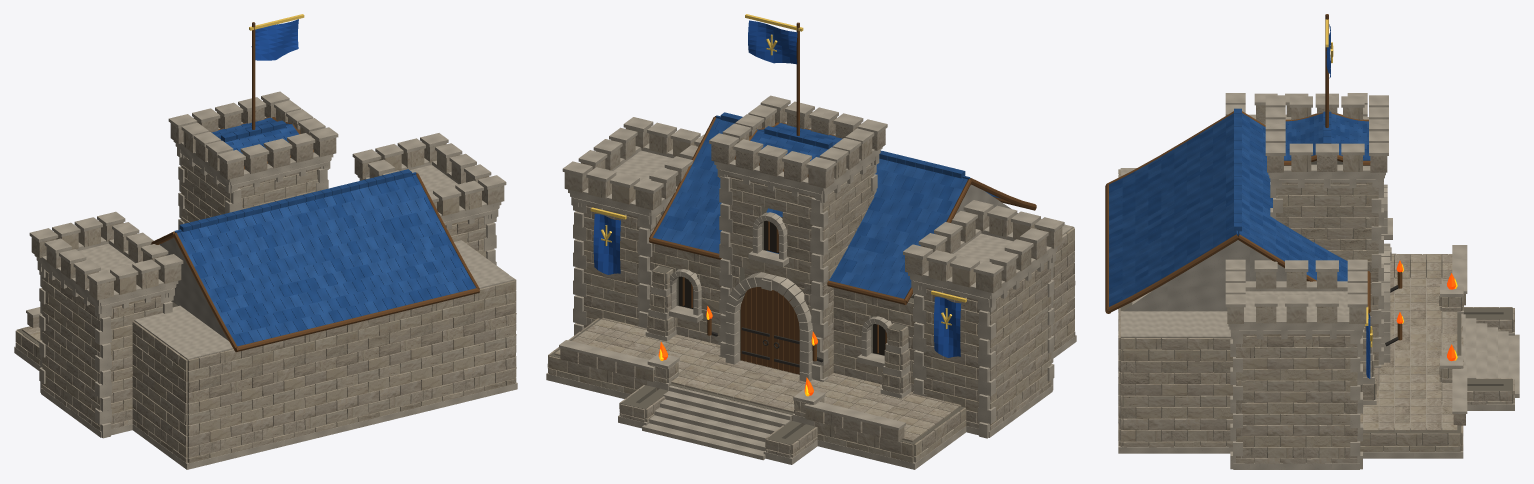
Rendered from Bastion_I_RoofJunction.glb.
3 renders of one model, left to right at view 1: azimuth 30°, elevation 25°; view 2: azimuth 150°, elevation 25°; view 3: azimuth 270°, elevation 25°, orthographic. The views are drawn at different scales.
Visible parts, largest first — view 1: Bastion_I CANDIDATE; view 2: Bastion_I CANDIDATE; view 3: Bastion_I CANDIDATE.
Boxes of the visible parts, left/top/right/bottom form: Bastion_I CANDIDATE: left=14, top=14, right=517, bottom=469; Bastion_I CANDIDATE: left=546, top=14, right=1076, bottom=469; Bastion_I CANDIDATE: left=1105, top=14, right=1519, bottom=469.
Bounding box in the file's own units: 21.29 × 16.62 × 17.64.
Materials: 19 (11 with a texture image).
